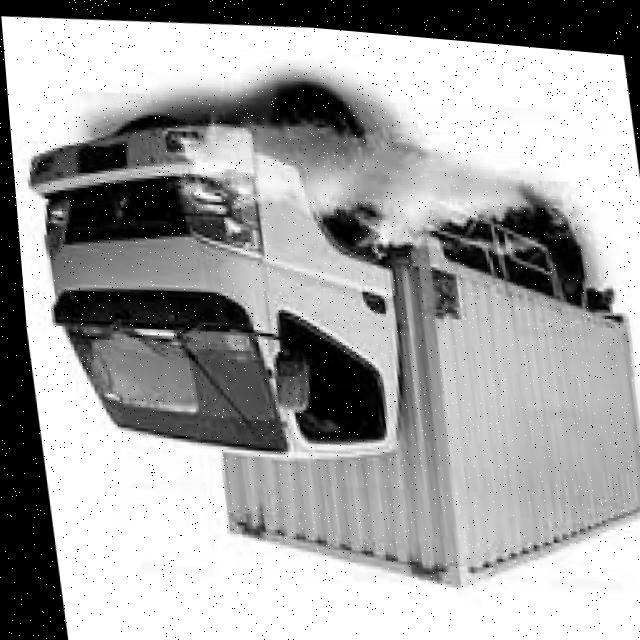truck: (4, 42, 468, 508)
